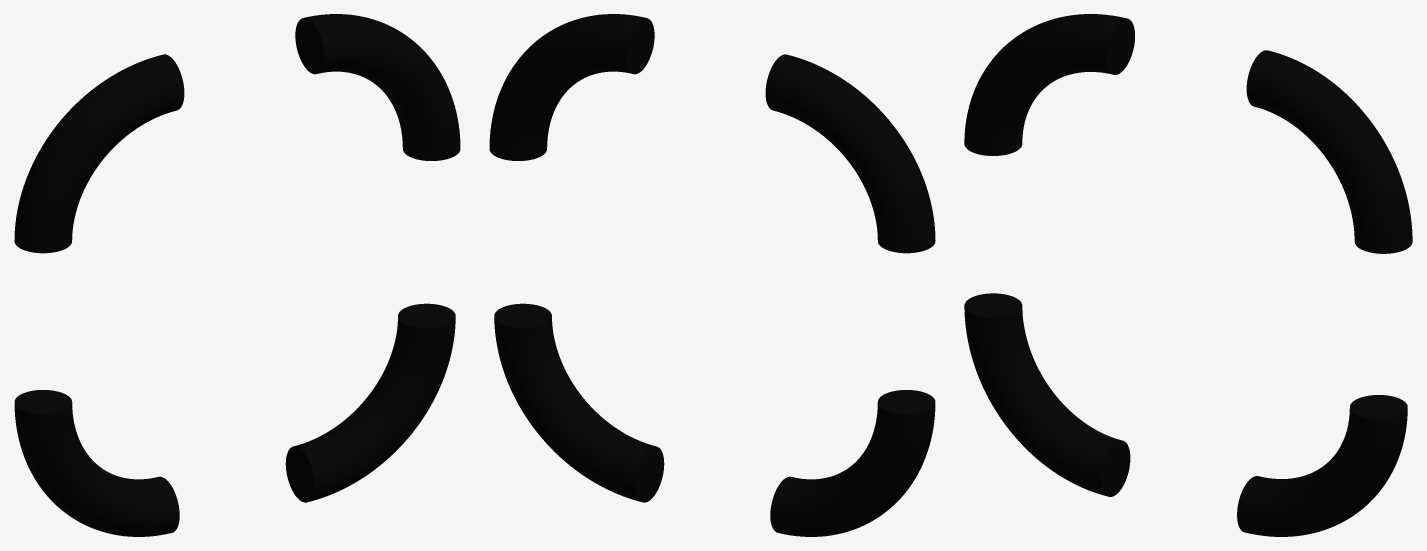
The model's file is Select.glb.
3 views of the same model, side by side, from view 1: azimuth 30°, elevation 25°; view 2: azimuth 150°, elevation 25°; view 3: azimuth 330°, elevation 25° (orthographic).
Parts seen in each view (by area): view 1: mesh_id33, mesh_id45, mesh_id27, mesh_id39; view 2: mesh_id33, mesh_id45, mesh_id27, mesh_id39; view 3: mesh_id39, mesh_id27, mesh_id33, mesh_id45.
Part boxes in pixels (bbox=[...]): mesh_id33: bbox=[14, 54, 184, 253]; mesh_id45: bbox=[285, 303, 455, 502]; mesh_id27: bbox=[295, 14, 460, 160]; mesh_id39: bbox=[14, 390, 179, 536]; mesh_id33: bbox=[765, 54, 935, 253]; mesh_id45: bbox=[494, 303, 664, 502]; mesh_id27: bbox=[489, 14, 654, 160]; mesh_id39: bbox=[770, 390, 935, 536]; mesh_id39: bbox=[964, 293, 1130, 496]; mesh_id27: bbox=[1246, 50, 1412, 253]; mesh_id33: bbox=[964, 14, 1134, 155]; mesh_id45: bbox=[1237, 395, 1407, 536].
Size of the model in its own units: 0.1792 by 0.1869 by 0.0204.
Materials: 1 (1 with a texture image).
